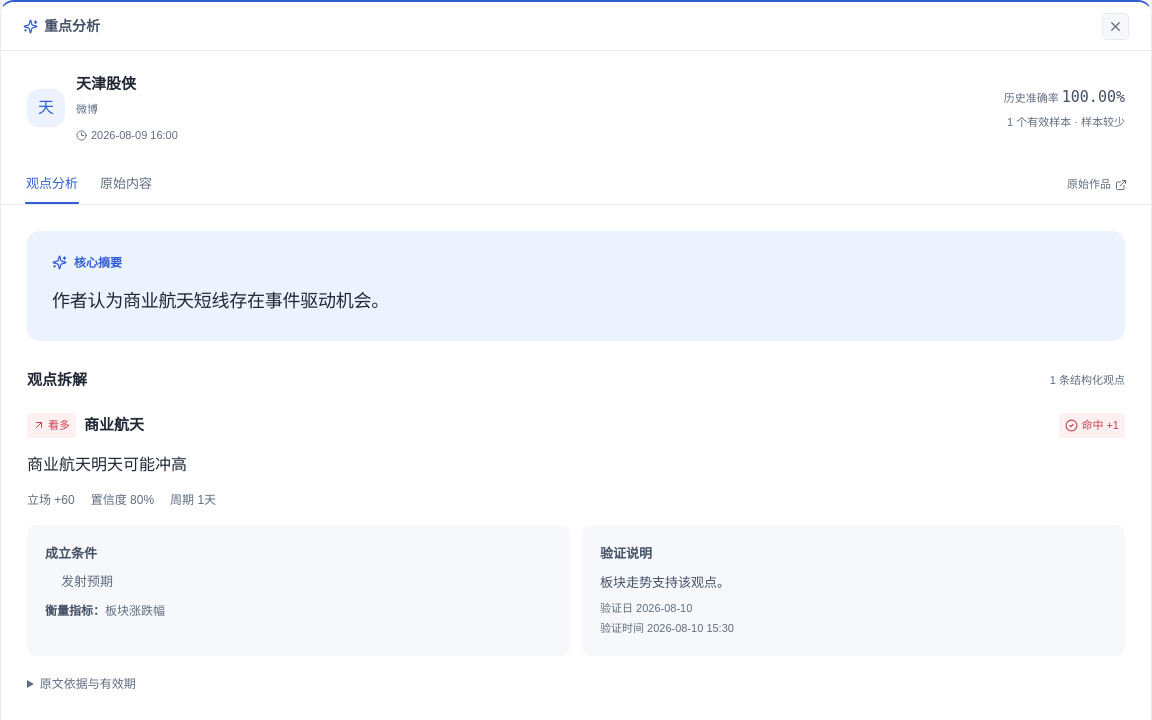
Test: CreatorWorkDetailPanel › renders verified analysis and switches to the labeled original source
Click the button "原始内容". click: (126, 184)
box: [99,166,153,204]
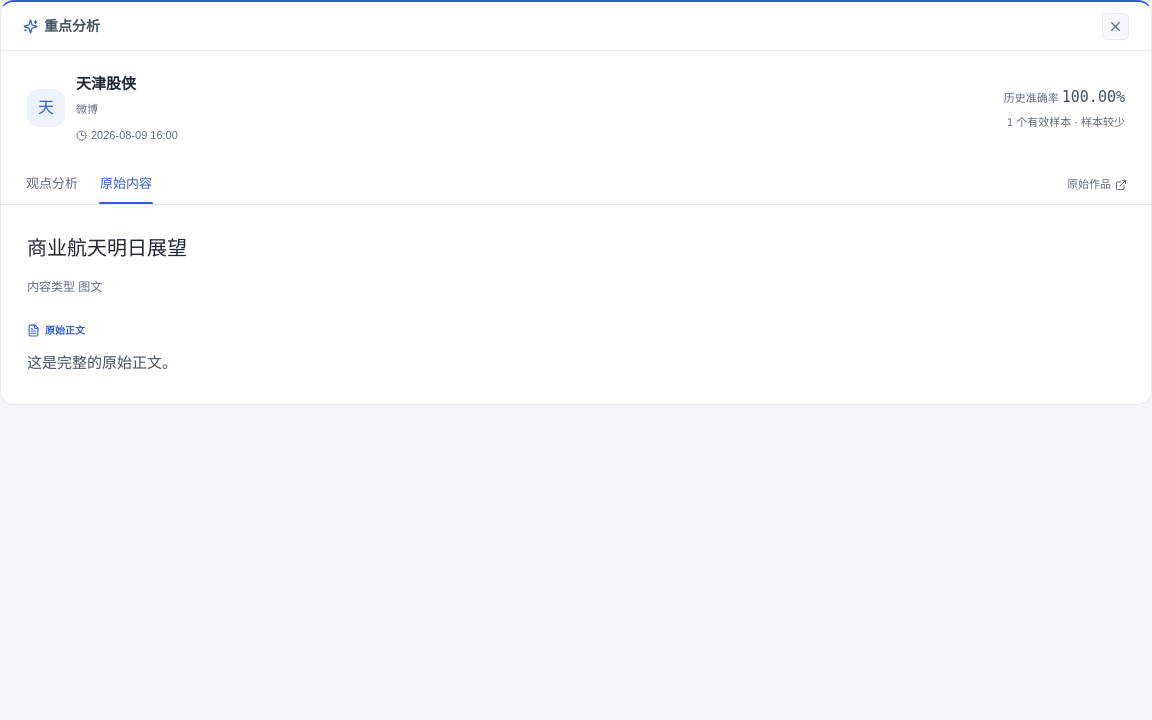
Now the text "原始正文" is shown, box [45,322,85,338]
Now the text "这是完整的原始正文" is shown, box [27,354,177,370]
